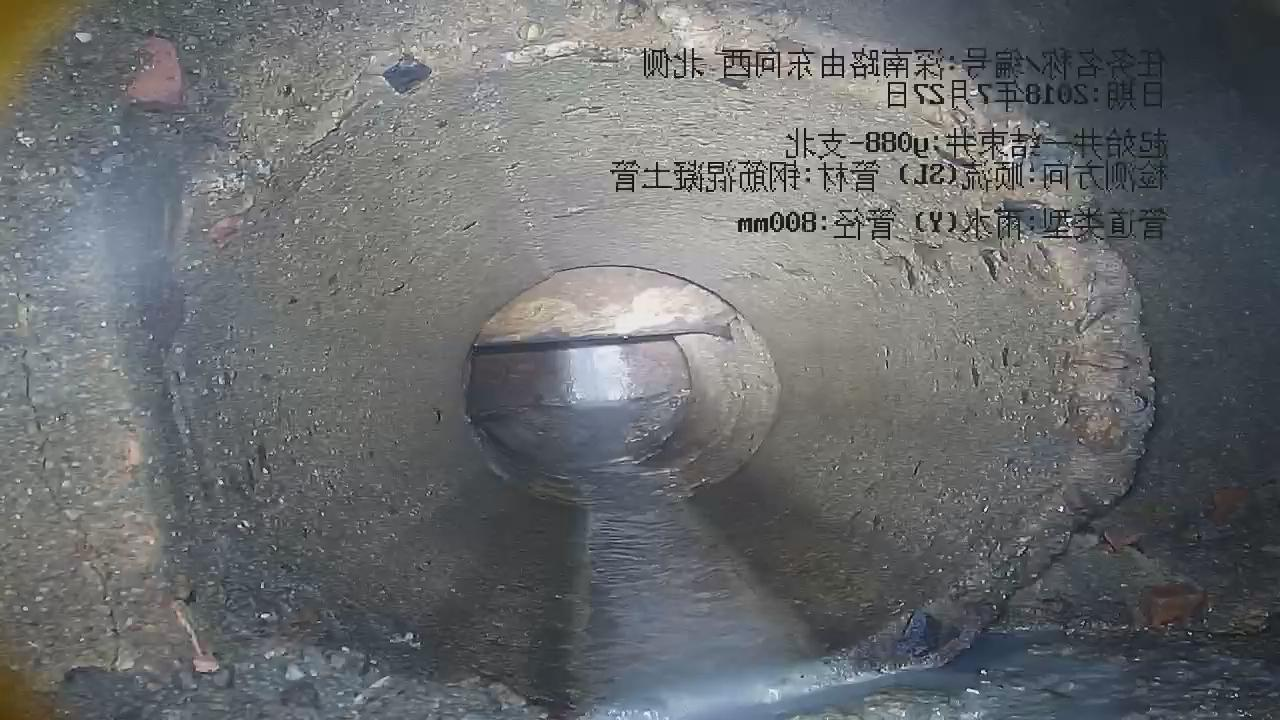YWCR: (478, 266, 743, 343)
